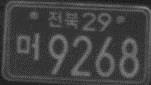2: (68, 34, 93, 76), (81, 11, 97, 32)
6: (94, 35, 115, 77)
8: (118, 36, 140, 79)
9: (48, 33, 68, 75), (97, 11, 112, 33)
머: (15, 31, 40, 61)
전북_O: (47, 9, 79, 31)
